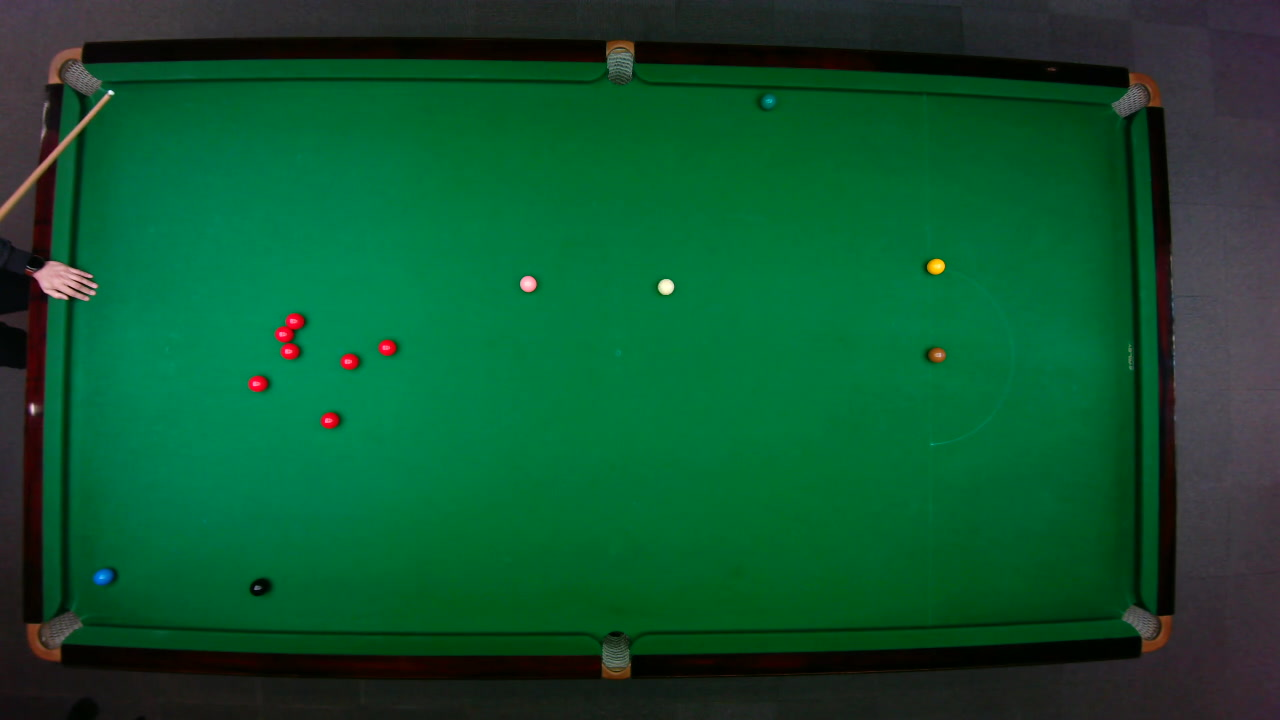bag: (25, 609, 84, 661), (46, 46, 102, 96), (1119, 603, 1172, 652), (1108, 71, 1161, 117), (600, 629, 629, 680), (605, 38, 633, 85)
black: (248, 577, 268, 596)
blue: (91, 566, 114, 585)
brown: (926, 346, 946, 362)
cue: (0, 89, 117, 217)
green: (759, 93, 776, 110)
pink: (518, 274, 537, 292)
red: (246, 373, 269, 392), (318, 410, 340, 429), (284, 311, 305, 330), (278, 342, 300, 359), (273, 324, 293, 342), (377, 338, 397, 356), (339, 352, 359, 369)
white: (655, 277, 675, 295)
yellow: (925, 257, 945, 274)
zone: (927, 266, 1013, 445)
